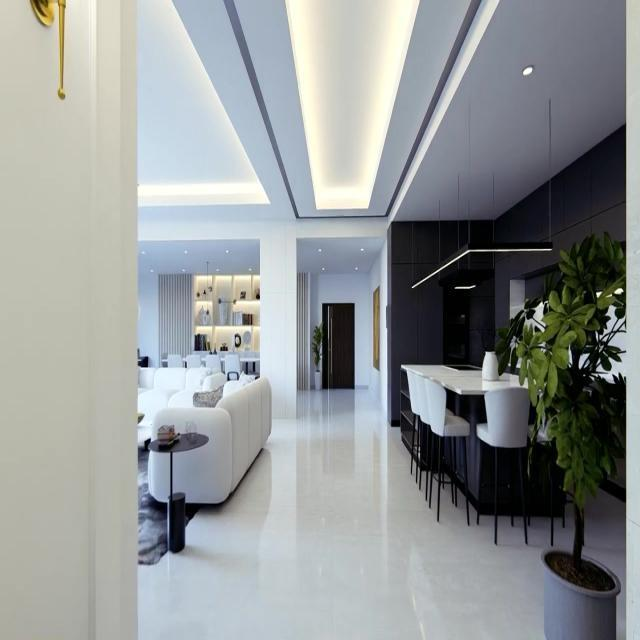door: (322, 302, 354, 388)
obstacle: (405, 370, 474, 530), (476, 387, 528, 544), (147, 431, 209, 552)
